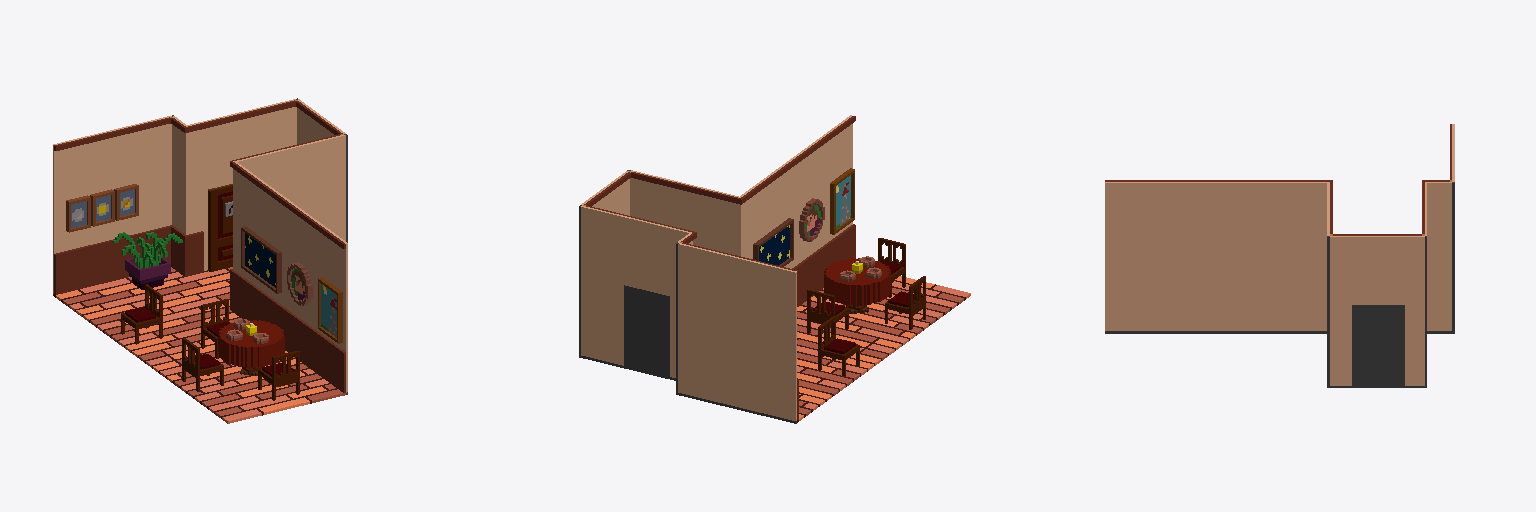
The picture shows the model from 3 angles: view 1: azimuth 30°, elevation 25°; view 2: azimuth 150°, elevation 25°; view 3: azimuth 270°, elevation 25°; orthographic projection.
Parts seen in each view (by area): view 1: object 1; view 2: object 1; view 3: object 1.
Part boxes in pixels (left/top/right/bottom): object 1: left=53, top=98, right=347, bottom=423; object 1: left=579, top=115, right=970, bottom=423; object 1: left=1105, top=124, right=1454, bottom=387.
Bounding box in the file's own units: 9.6 × 6 × 12.6.
1 materials, 1 textured.